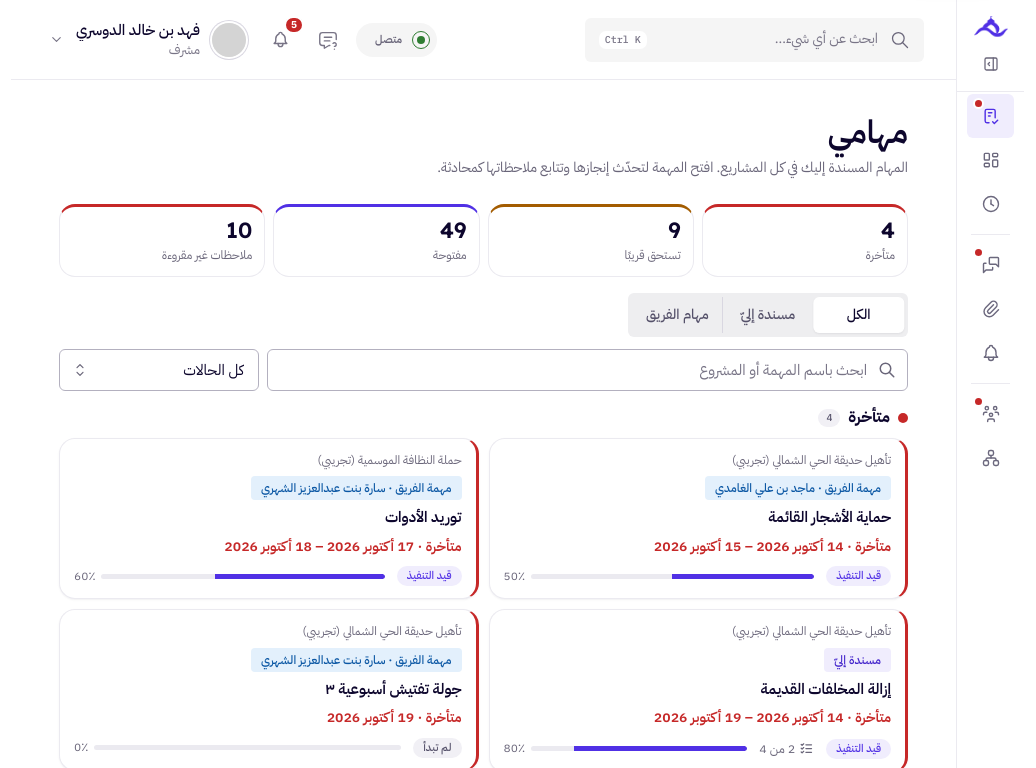
«مهامي» with the team’s tasks › badges every card and filters own / team tasks
Expected: the text "مهمة الفريق · ماجد بن علي الغامدي" is shown, [705,476,891,500]
Expected: the text with test id "mytask-badge-mine" is shown, [824,648,891,672]
Click the text "مهام الفريق".
click(677, 315)  # box [646,303,709,327]
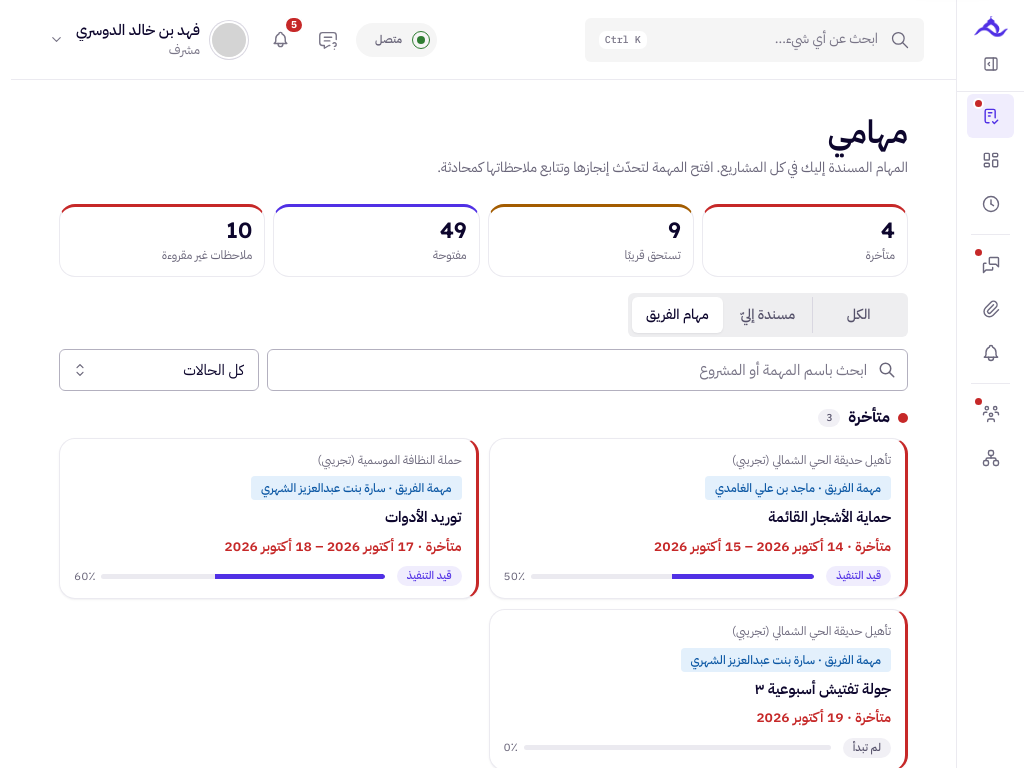
Expected: the text "مهمة الفريق · ماجد بن علي الغامدي" is shown, [705,476,891,500]
Result: no elements with test id "mytask-badge-mine" are shown
Click the text "مسندة إليّ".
click(768, 315)  # box [741,303,795,327]
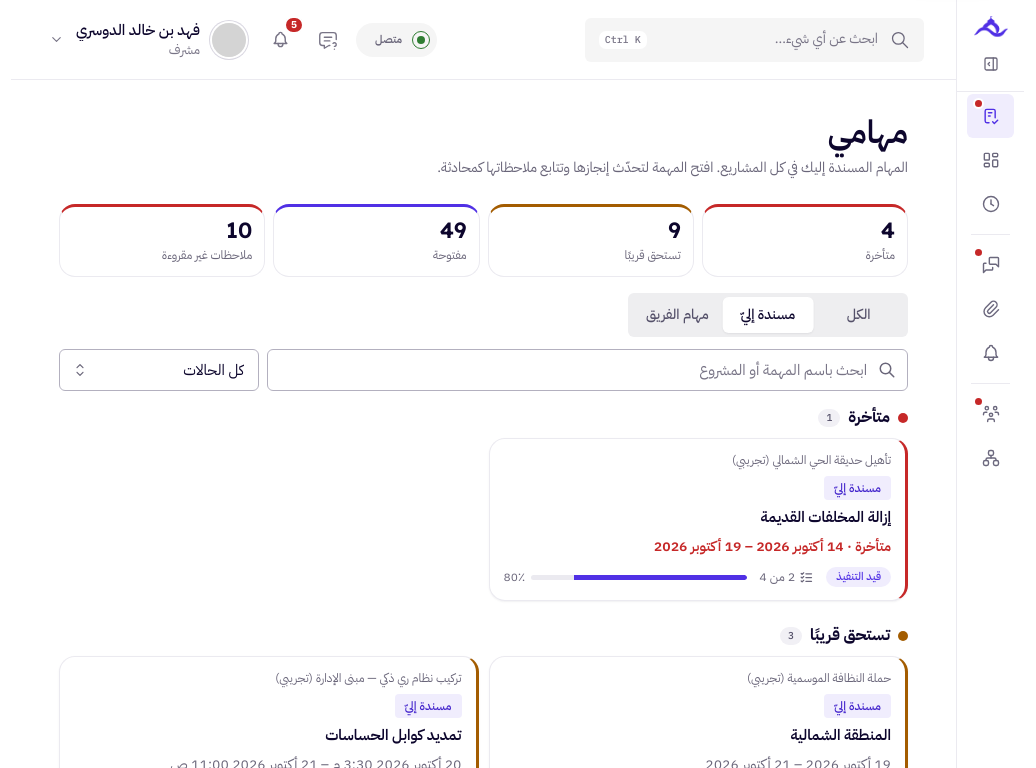
Result: no elements with test id "mytask-badge-team" are shown
